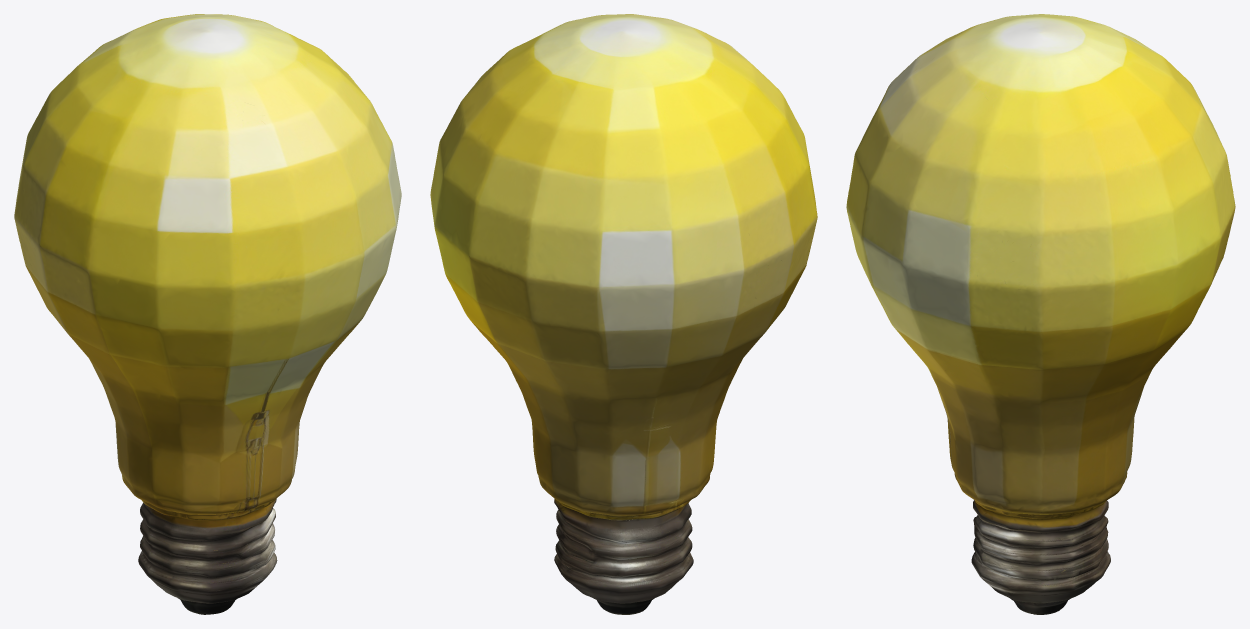
Rendered from light.glb.
The picture shows the model from 3 angles, left to right: view 1: azimuth 30°, elevation 25°; view 2: azimuth 150°, elevation 25°; view 3: azimuth 270°, elevation 25°; orthographic projection.
Visible parts, largest first — view 1: Mesh_0.001; view 2: Mesh_0.001; view 3: Mesh_0.001.
Boxes of the visible parts, box(x1,y1,x2,y2) form: Mesh_0.001: box(14, 14, 401, 614); Mesh_0.001: box(430, 14, 817, 614); Mesh_0.001: box(846, 14, 1235, 614).
Bounding box in the file's own units: 4.19 × 6.8 × 4.17.
Materials: 1 (1 with a texture image).
